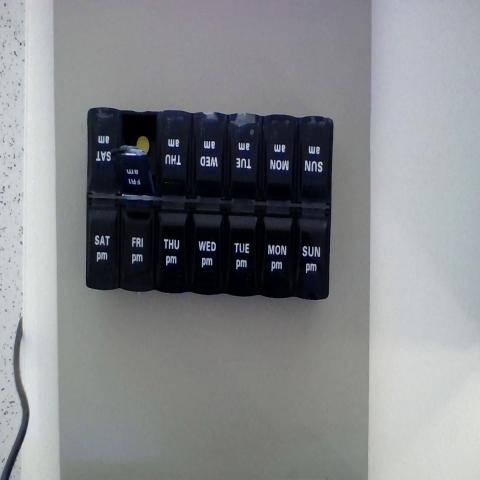FRI-pm: (119, 203, 155, 287)
MON-am: (263, 116, 296, 198)
MON-pm: (262, 218, 294, 299)
Open: (117, 112, 157, 194)
PillBox: (70, 86, 348, 321)
SAT-am: (88, 111, 121, 194)
SAT-pm: (87, 200, 119, 286)
SUN-am: (296, 117, 332, 203)
SUN-pm: (296, 218, 326, 298)
THU-am: (158, 109, 191, 196)
THU-pm: (156, 208, 190, 289)
TUE-am: (229, 115, 261, 198)
TUE-pm: (228, 214, 262, 296)
WED-am: (192, 113, 227, 199)
WED-pm: (189, 211, 226, 297)
